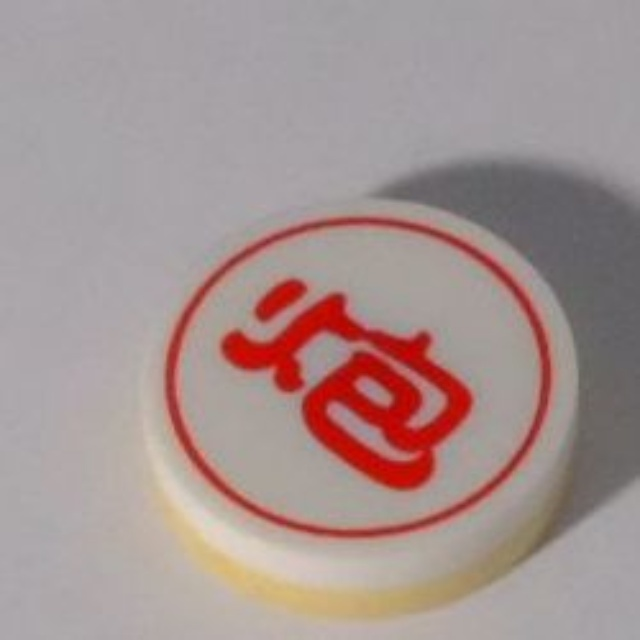red_phao: (140, 189, 588, 623)
